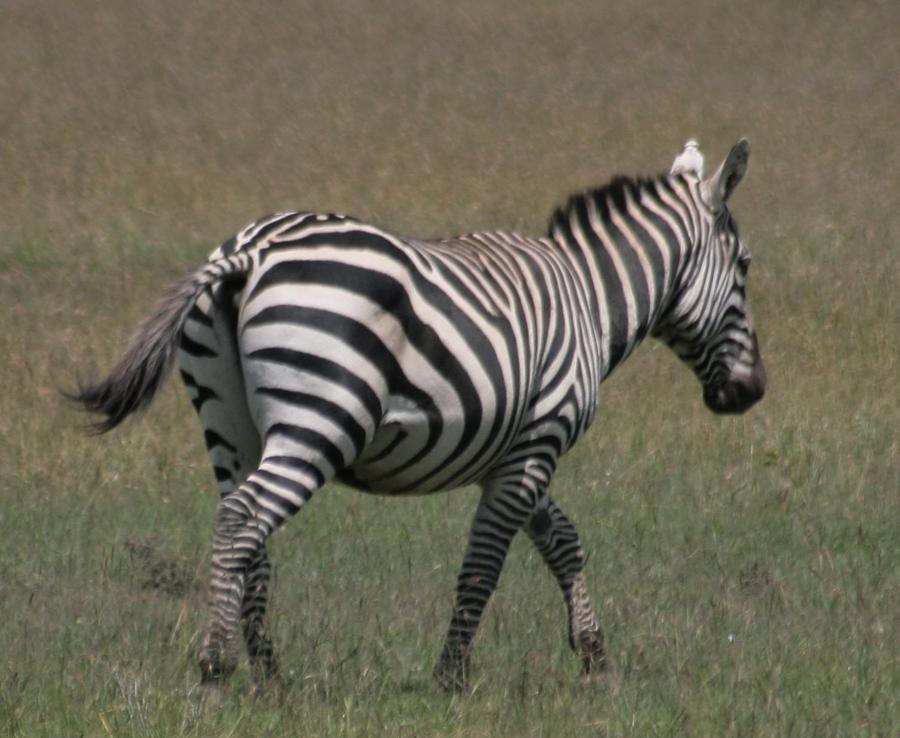zebra_plains: (221, 191, 659, 527)
